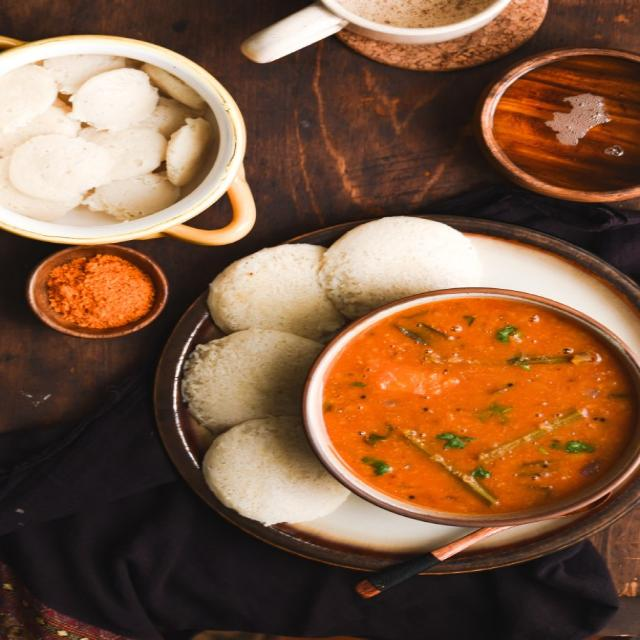Idly: (192, 416, 357, 542), (197, 242, 374, 349), (328, 207, 486, 317), (158, 326, 321, 420)
